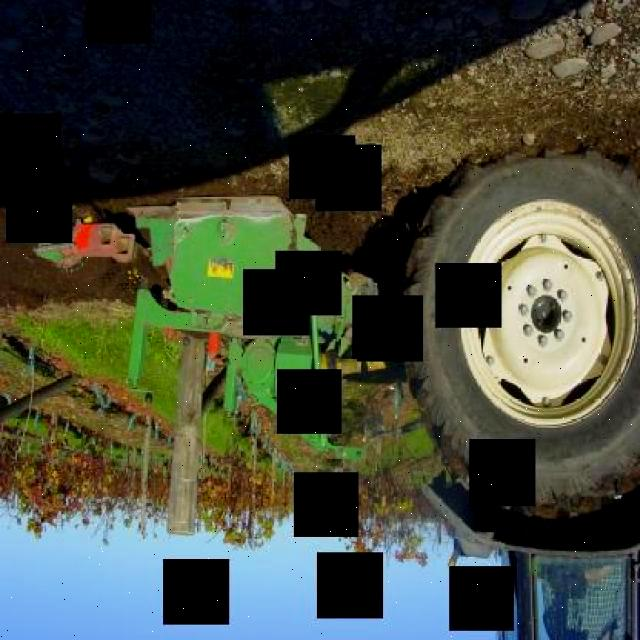Tratores - v5 YOLO V8L 2024-11-13: (382, 31, 638, 640)
